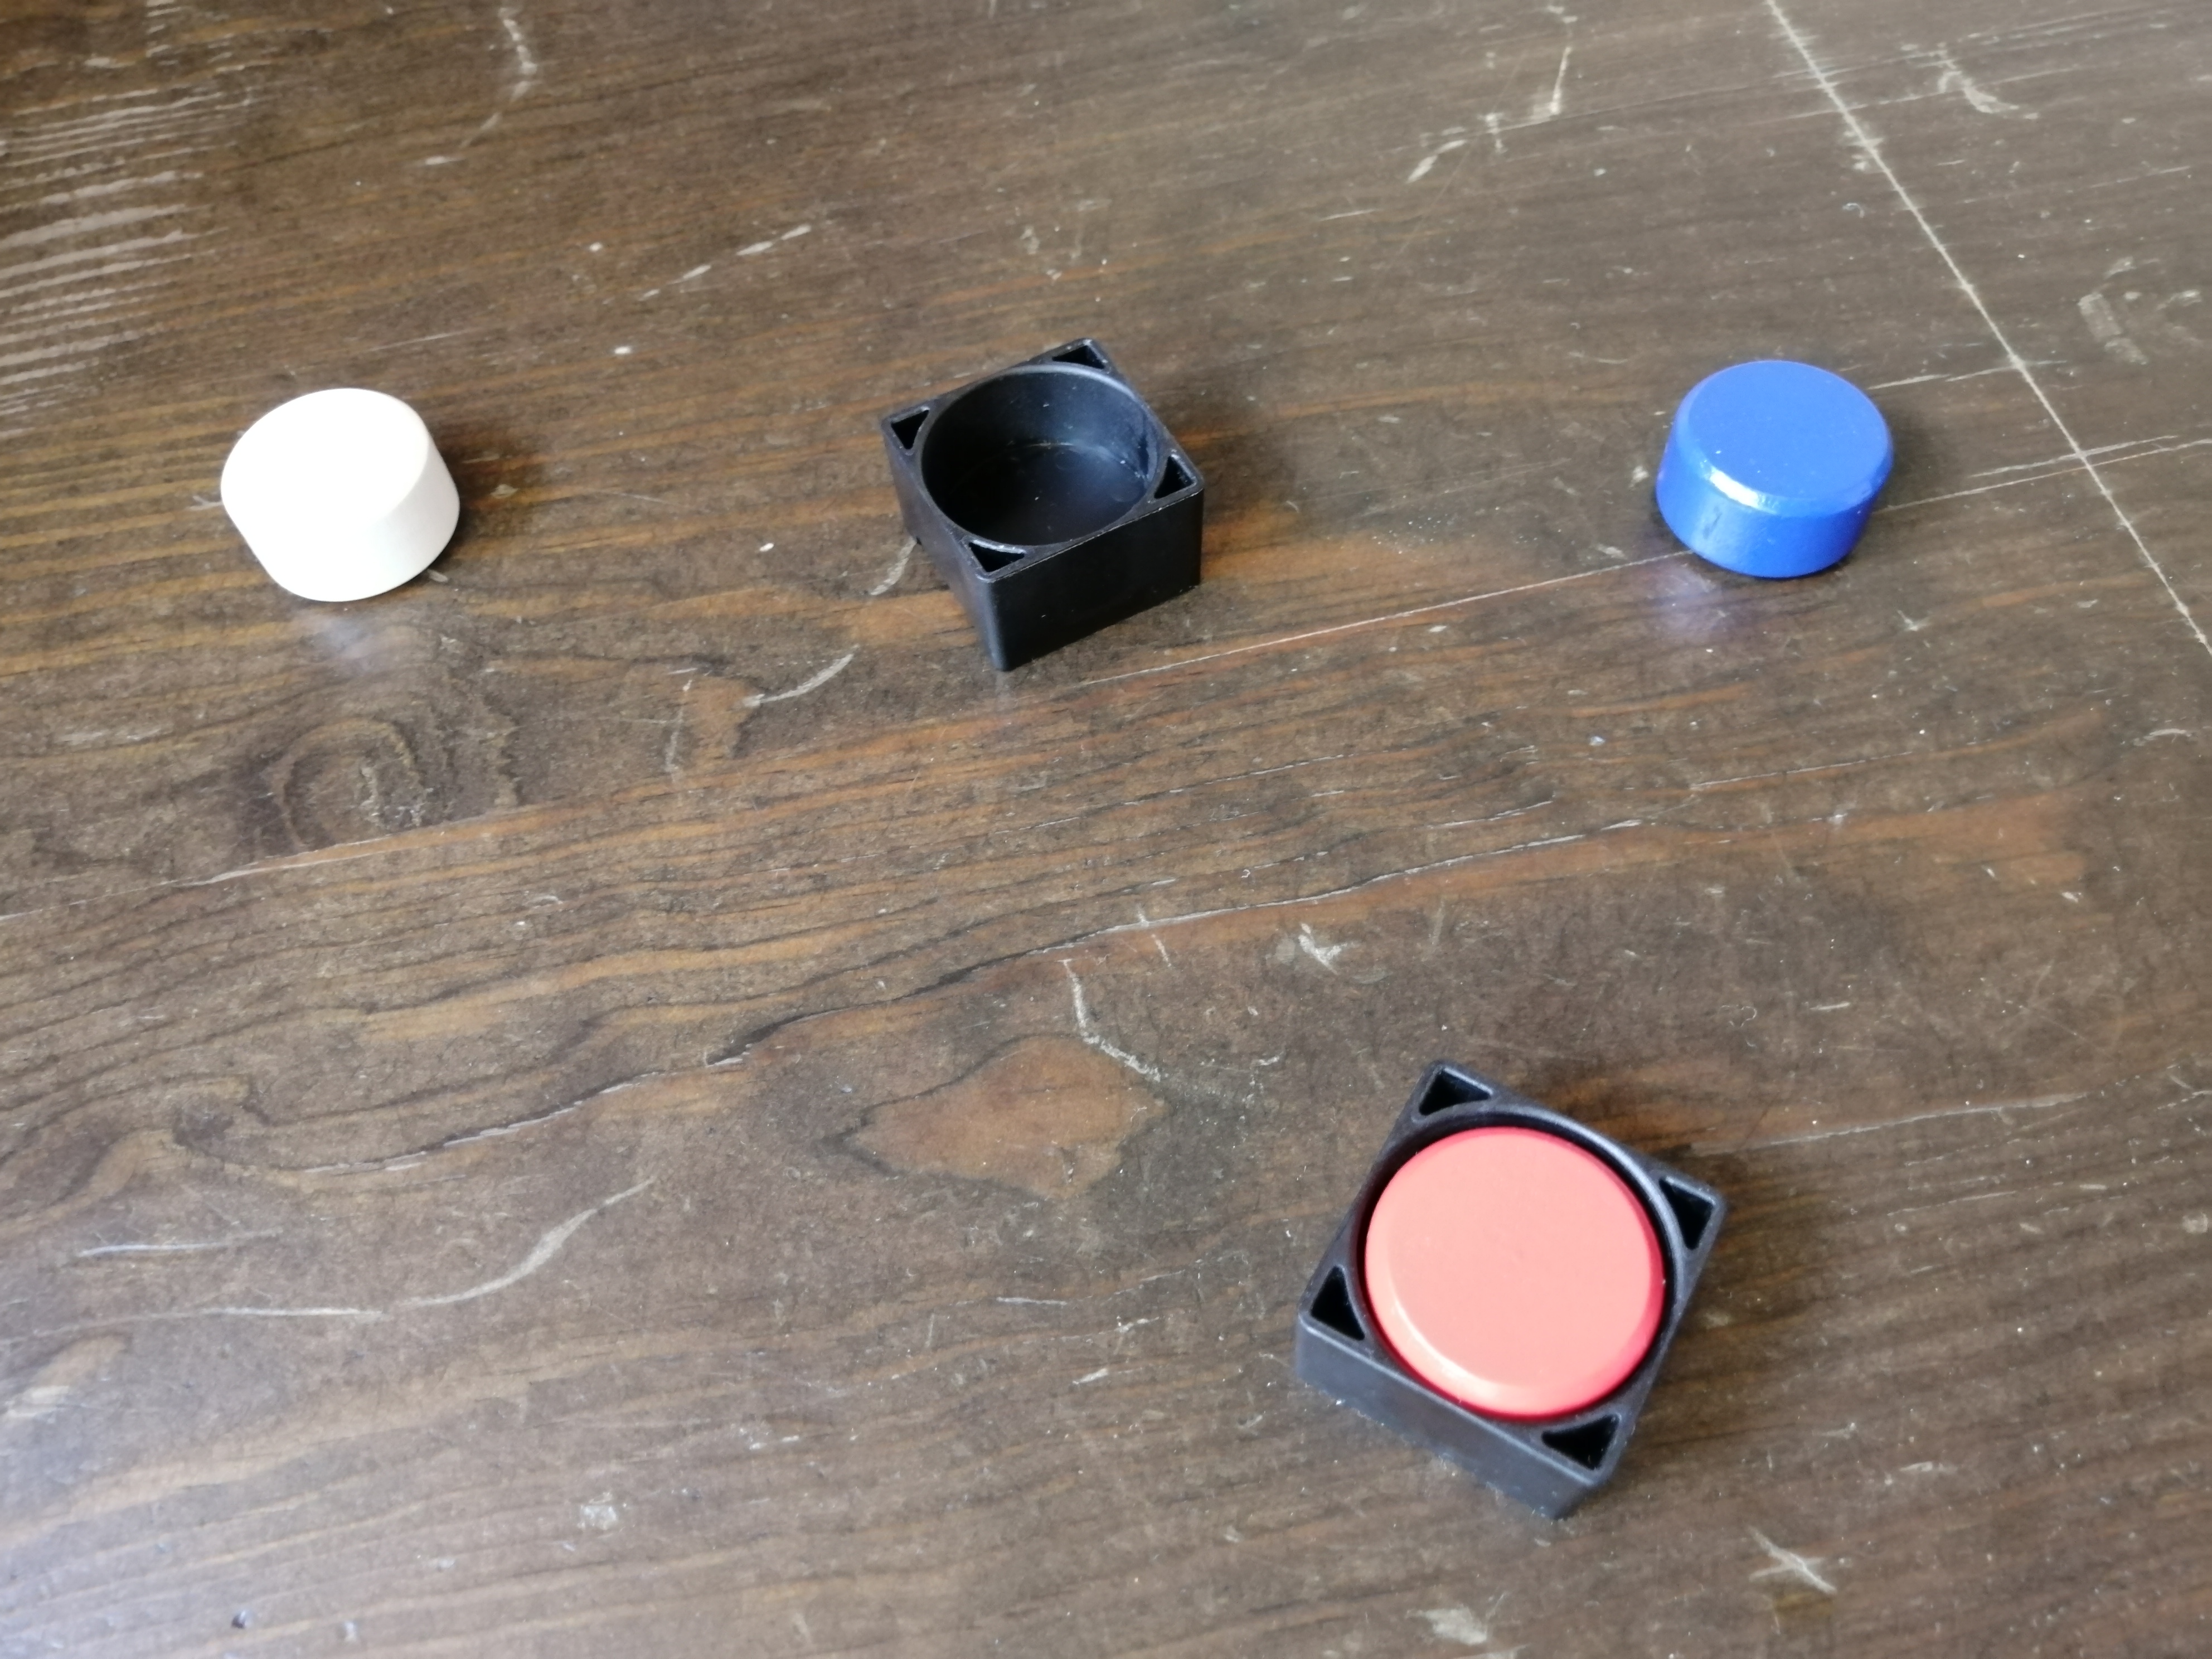Behaelter: (1282, 1054, 1730, 1520), (878, 335, 1219, 676)
WerkStueck: (1364, 1134, 1655, 1412), (1655, 361, 1883, 582), (221, 390, 458, 599)
